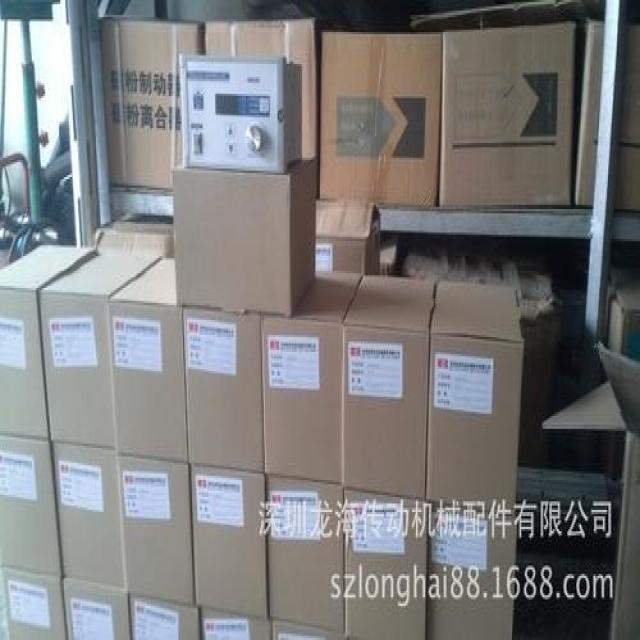box: (543, 346, 640, 640), (439, 19, 576, 209), (40, 254, 161, 450), (425, 279, 524, 516), (170, 160, 317, 316), (261, 271, 362, 482), (319, 34, 442, 207), (342, 273, 434, 501), (0, 243, 97, 439), (96, 19, 204, 190), (205, 17, 319, 162), (109, 258, 188, 465), (182, 307, 265, 474), (343, 489, 428, 640), (426, 501, 517, 640), (188, 465, 269, 621), (265, 474, 343, 634), (118, 454, 196, 604), (51, 442, 124, 589), (0, 435, 61, 580), (612, 19, 640, 213), (575, 19, 603, 209), (316, 198, 381, 275), (1, 567, 67, 640), (63, 580, 132, 640), (128, 591, 200, 640), (96, 213, 173, 258), (605, 271, 640, 363), (197, 608, 271, 640)
